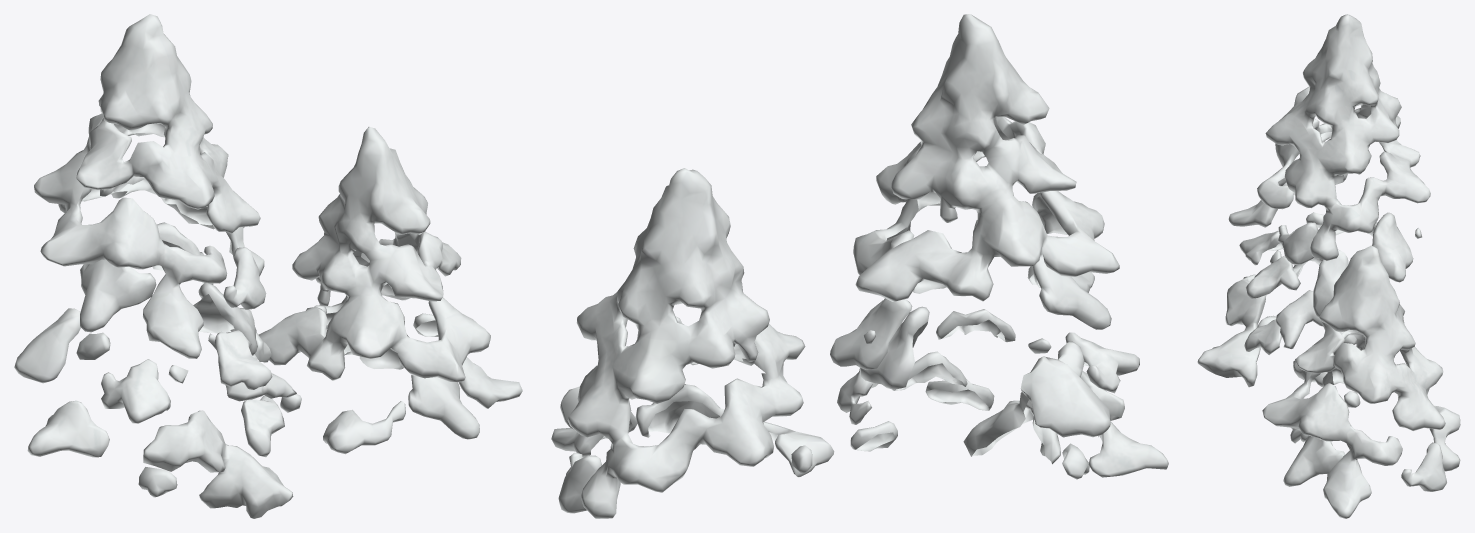
File: ChristmasRoom_OutsideTreeSnow01.fbx
3 renders of one model, left to right at view 1: azimuth 30°, elevation 25°; view 2: azimuth 150°, elevation 25°; view 3: azimuth 270°, elevation 25°, orthographic. The views are drawn at different scales.
Parts seen in each view (by area): view 1: ChristmasRoom_OutsideTreeSnow01; view 2: ChristmasRoom_OutsideTreeSnow01; view 3: ChristmasRoom_OutsideTreeSnow01.
Part boxes in pixels (box(x1,y1,x2,y2)): ChristmasRoom_OutsideTreeSnow01: box(14, 14, 522, 518); ChristmasRoom_OutsideTreeSnow01: box(551, 14, 1168, 518); ChristmasRoom_OutsideTreeSnow01: box(1197, 14, 1460, 518).
Bounding box in the file's own units: 291 × 253 × 164.
